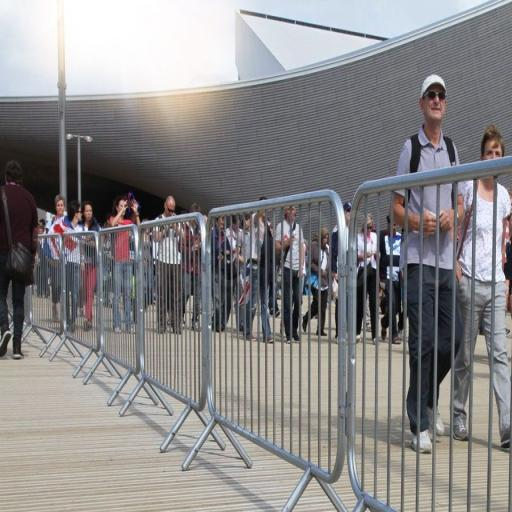bus_stop: (347, 158, 512, 510), (182, 189, 356, 512), (120, 212, 225, 452), (83, 224, 158, 414), (50, 231, 115, 383)
